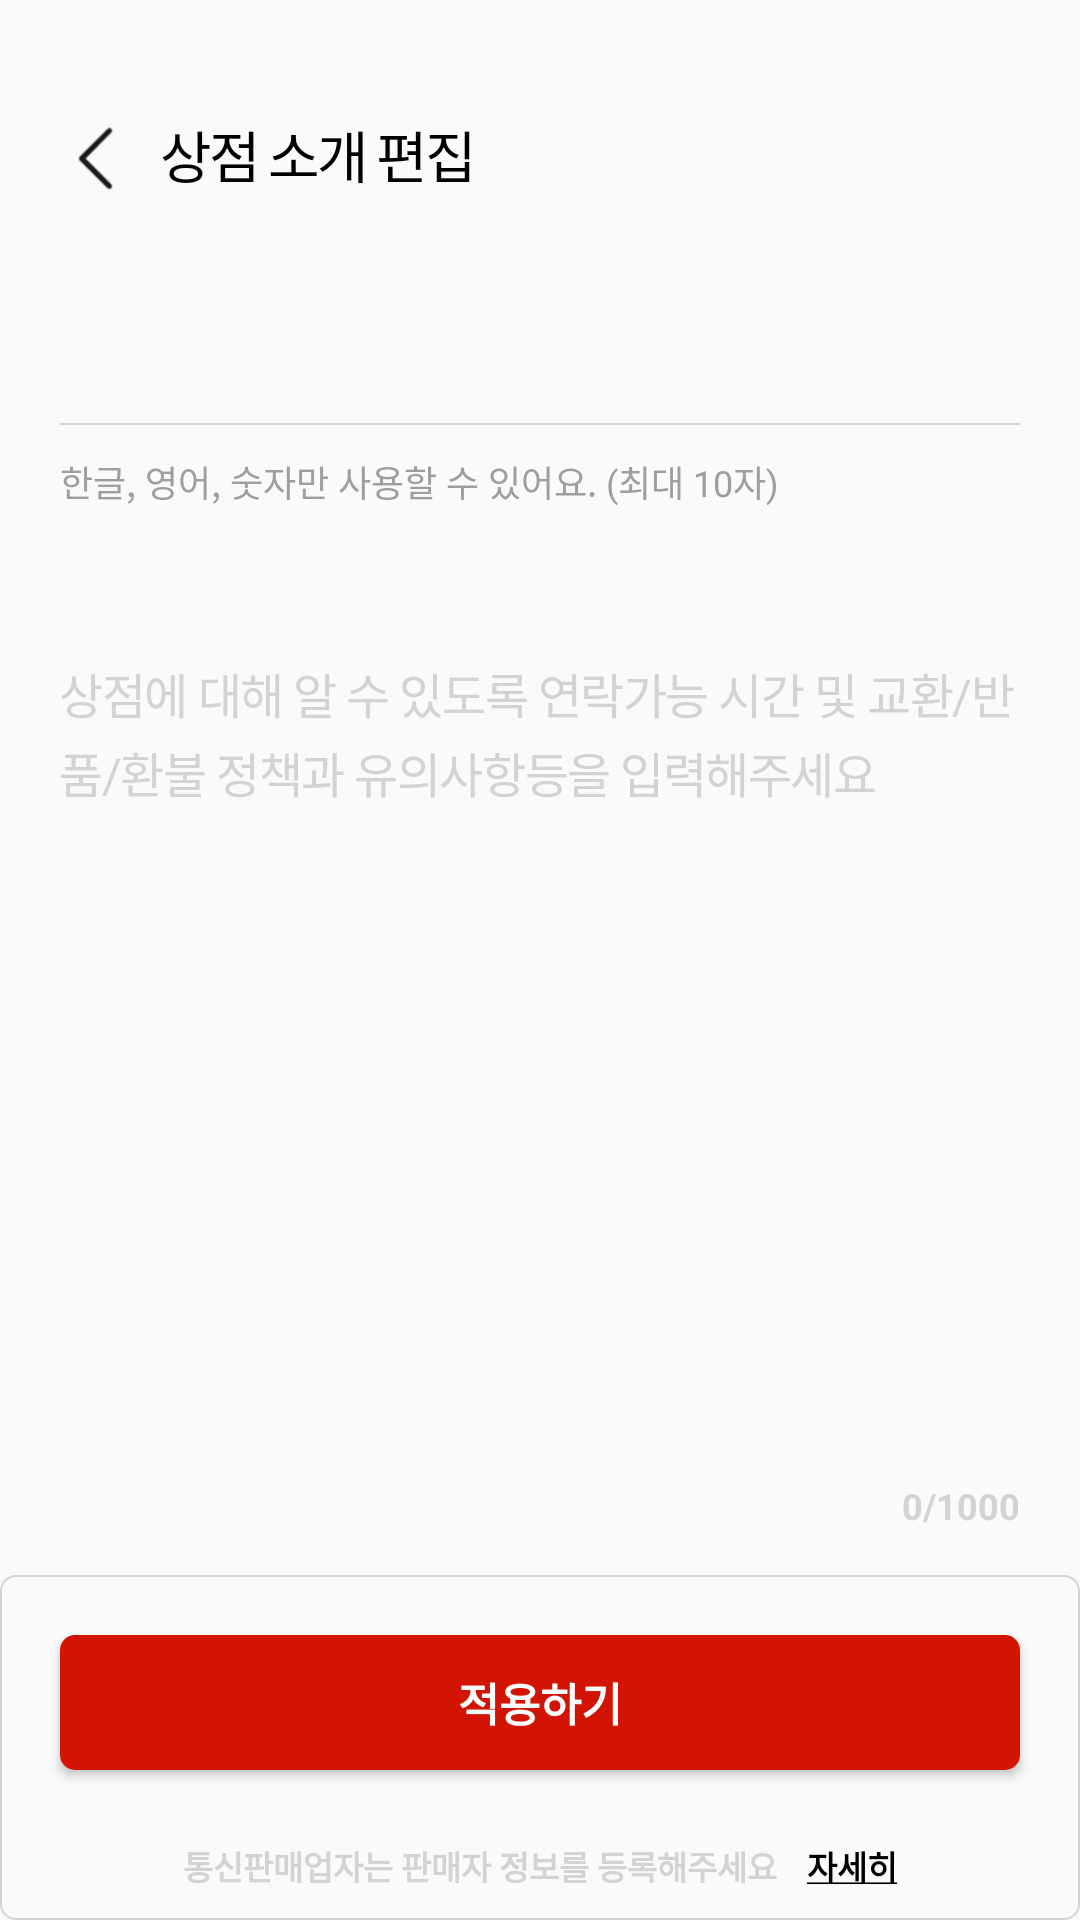

Icons on this 1080×1920 Android screen, each with its box as (x1, y1, x2, y2):
left arrow: (78, 127, 113, 190)
